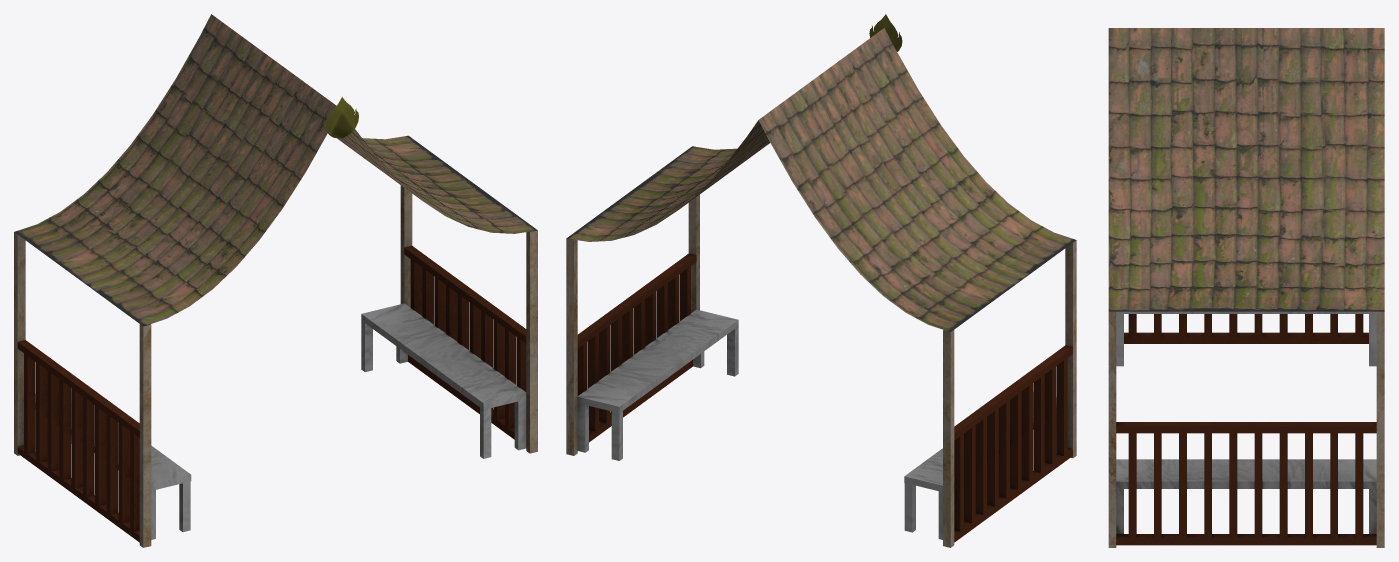
File: pavillion.glb
The picture shows the model from 3 angles, left to right: view 1: azimuth 30°, elevation 25°; view 2: azimuth 150°, elevation 25°; view 3: azimuth 270°, elevation 25°; orthographic projection. The views are drawn at different scales.
Parts seen in each view (by area): view 1: pavillion; view 2: pavillion; view 3: pavillion.
Part boxes in pixels (left/top/right/bottom): pavillion: left=14, top=14, right=537, bottom=547; pavillion: left=566, top=14, right=1076, bottom=547; pavillion: left=1108, top=28, right=1384, bottom=547.
Bounding box in the file's own units: 5.36 × 5.25 × 3.08.
1 material, 1 textured.
